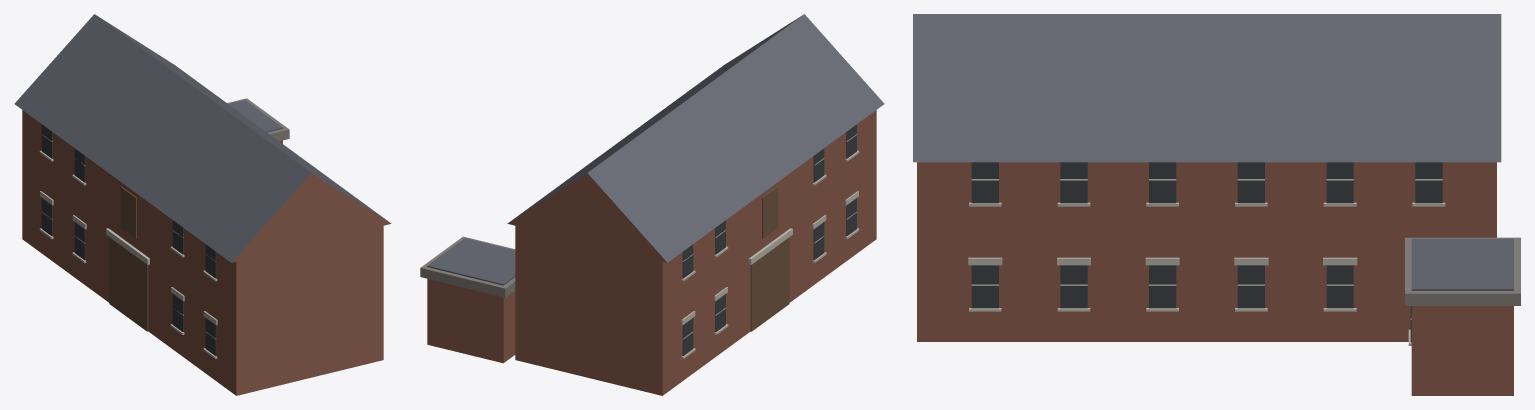
The model's file is house_1730_prairie_coach_house__draft_1904.glb.
3 views of the same model, side by side, from view 1: azimuth 30°, elevation 25°; view 2: azimuth 150°, elevation 25°; view 3: azimuth 270°, elevation 25° (orthographic). The views are drawn at different scales.
Parts seen in each view (by area): view 1: house_1730_prairie_coach_house__draft_1904; view 2: house_1730_prairie_coach_house__draft_1904; view 3: house_1730_prairie_coach_house__draft_1904.
Boxes of the visible parts, left/top/right/bottom form: house_1730_prairie_coach_house__draft_1904: left=14, top=14, right=391, bottom=395; house_1730_prairie_coach_house__draft_1904: left=420, top=14, right=884, bottom=395; house_1730_prairie_coach_house__draft_1904: left=913, top=14, right=1520, bottom=395.
Bounding box in the file's own units: 11 × 9.03 × 17.82.
